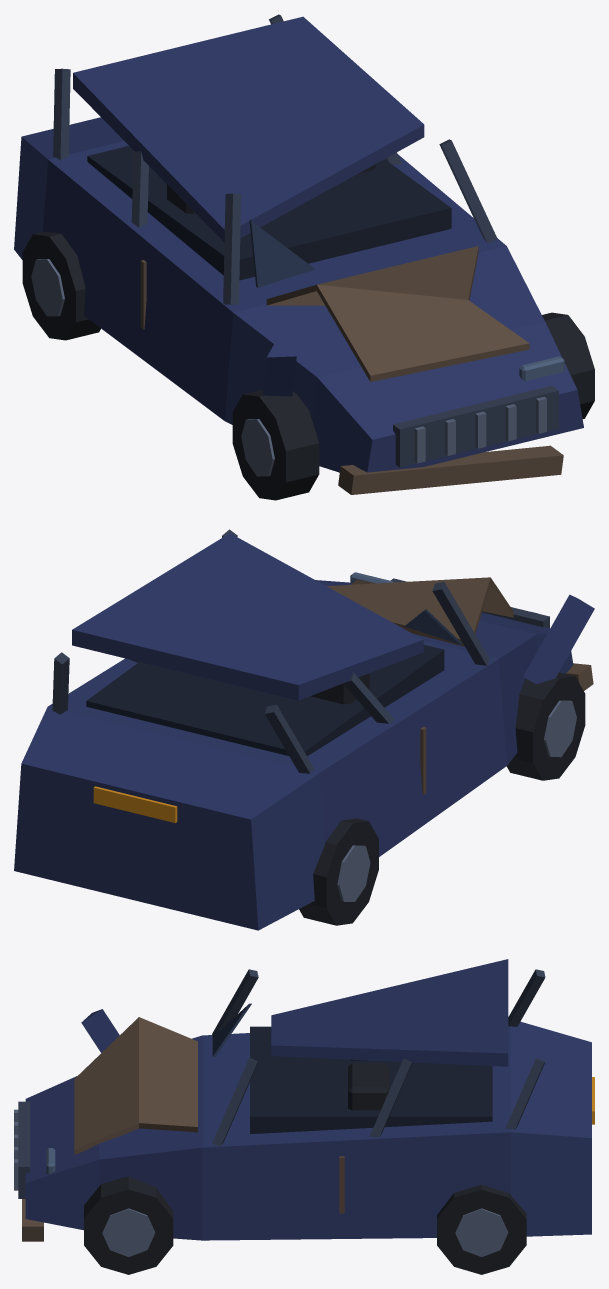
File: city_wrecked_car.glb
The picture shows the model from 3 angles, top to bottom: view 1: azimuth 30°, elevation 25°; view 2: azimuth 150°, elevation 25°; view 3: azimuth 270°, elevation 25°; orthographic projection. The views are drawn at different scales.
Parts seen in each view (by area): view 1: crumpled_body, bent_roof, buckled_hood, cabin_floor, flat_tire, loose_bumper, exposed_radiator, wheel, wheel.002, glass_shard, window_pillar.002, torn_fender (+6 smaller); view 2: crumpled_body, bent_roof, cabin_floor, buckled_hood, flat_tire, wheel, torn_fender, rear_lamp, window_pillar.002, rim, rim.001, window_pillar (+5 smaller); view 3: crumpled_body, bent_roof, cabin_floor, buckled_hood, wheel.002, wheel.001, rim.003, rim.002, seat.001, exposed_radiator, window_pillar.005, torn_fender (+6 smaller).
Part boxes in pixels (bbox=[...]): crumpled_body: bbox=[14, 117, 583, 472]; bent_roof: bbox=[73, 16, 424, 241]; buckled_hood: bbox=[266, 246, 529, 381]; cabin_floor: bbox=[87, 146, 451, 280]; flat_tire: bbox=[232, 389, 319, 500]; loose_bumper: bbox=[338, 445, 563, 494]; exposed_radiator: bbox=[393, 385, 558, 467]; wheel: bbox=[22, 231, 100, 340]; wheel.002: bbox=[542, 312, 594, 418]; glass_shard: bbox=[249, 220, 314, 287]; window_pillar.002: bbox=[223, 193, 241, 304]; torn_fender: bbox=[262, 334, 296, 396]; crumpled_body: bbox=[14, 580, 573, 930]; bent_roof: bbox=[72, 533, 423, 700]; cabin_floor: bbox=[86, 645, 444, 756]; buckled_hood: bbox=[326, 577, 513, 646]; flat_tire: bbox=[506, 672, 585, 780]; wheel: bbox=[299, 818, 378, 925]; torn_fender: bbox=[523, 594, 594, 684]; rear_lamp: bbox=[93, 786, 177, 822]; window_pillar.002: bbox=[432, 582, 489, 665]; rim: bbox=[337, 845, 370, 901]; rim.001: bbox=[544, 700, 576, 757]; window_pillar: bbox=[264, 704, 313, 773]; crumpled_body: bbox=[25, 1021, 591, 1240]; bent_roof: bbox=[271, 959, 508, 1066]; cabin_floor: bbox=[250, 1026, 492, 1133]; buckled_hood: bbox=[74, 1017, 197, 1154]; wheel.002: bbox=[84, 1176, 173, 1274]; wheel.001: bbox=[437, 1184, 526, 1274]; rim.003: bbox=[102, 1208, 155, 1256]; rim.002: bbox=[455, 1208, 508, 1256]; seat.001: bbox=[348, 1063, 388, 1110]; exposed_radiator: bbox=[18, 1101, 30, 1198]; window_pillar.005: bbox=[212, 1058, 258, 1146]; torn_fender: bbox=[81, 1009, 119, 1052].
Bounding box in the file's own units: 2.15 × 1.58 × 3.95.
